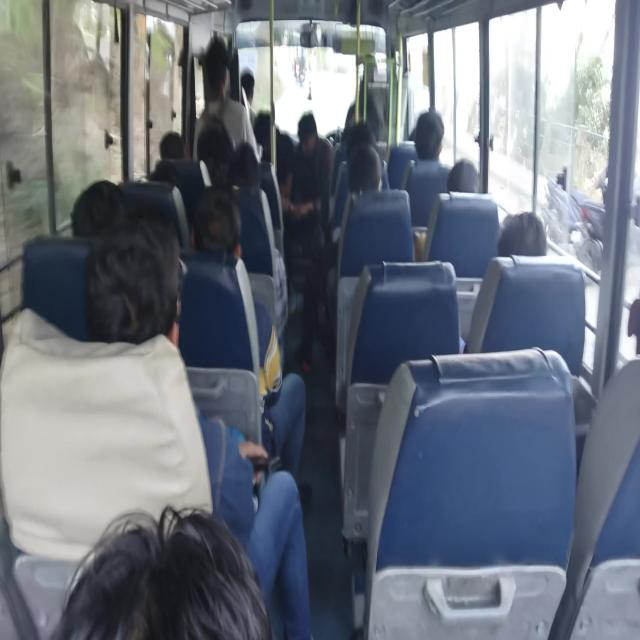person: (84, 496, 310, 640), (87, 228, 198, 443), (599, 285, 640, 446), (204, 208, 250, 296), (61, 187, 115, 248), (348, 149, 386, 218), (446, 161, 481, 212), (233, 128, 263, 182), (202, 56, 233, 108), (500, 208, 531, 260), (290, 113, 320, 163), (417, 109, 444, 162), (344, 121, 376, 162), (236, 72, 263, 116), (220, 171, 258, 199), (150, 161, 174, 199), (257, 112, 277, 154), (163, 128, 185, 154), (406, 122, 430, 144)
